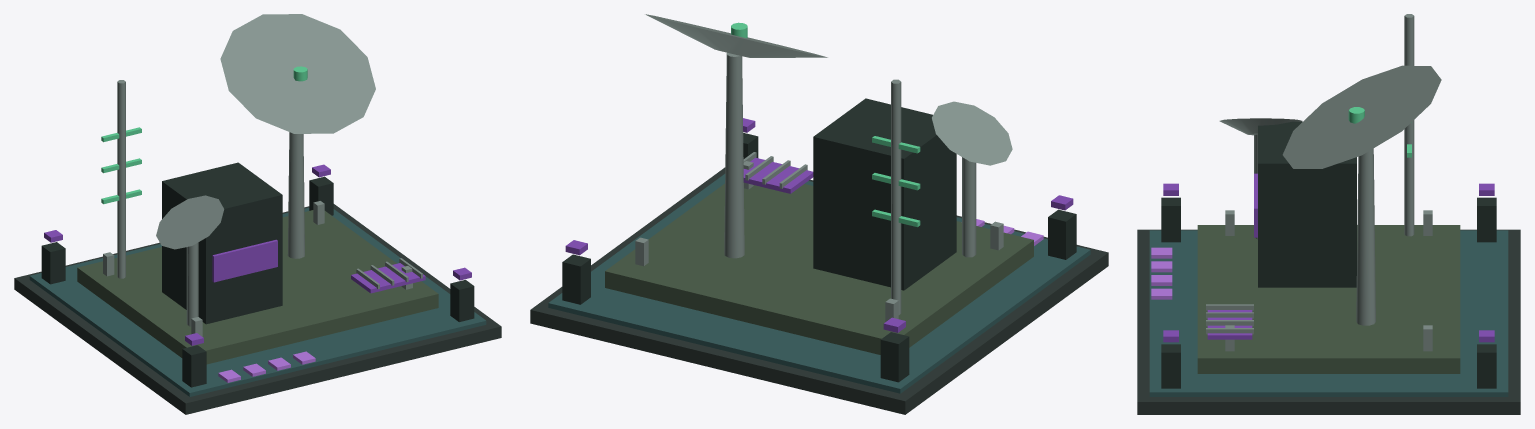
File: signal_l04.glb
3 renders of one model, left to right at view 1: azimuth 30°, elevation 25°; view 2: azimuth 150°, elevation 25°; view 3: azimuth 270°, elevation 25°, orthographic. The views are drawn at different scales.
Visible parts, largest first — view 1: signal_l04; view 2: signal_l04; view 3: signal_l04.
Part boxes in pixels (x1,y1,x2,y2): signal_l04: [14, 14, 501, 414]; signal_l04: [530, 14, 1108, 414]; signal_l04: [1137, 14, 1520, 414].
Bounding box in the file's own units: 6.6 × 4.97 × 6.2.
